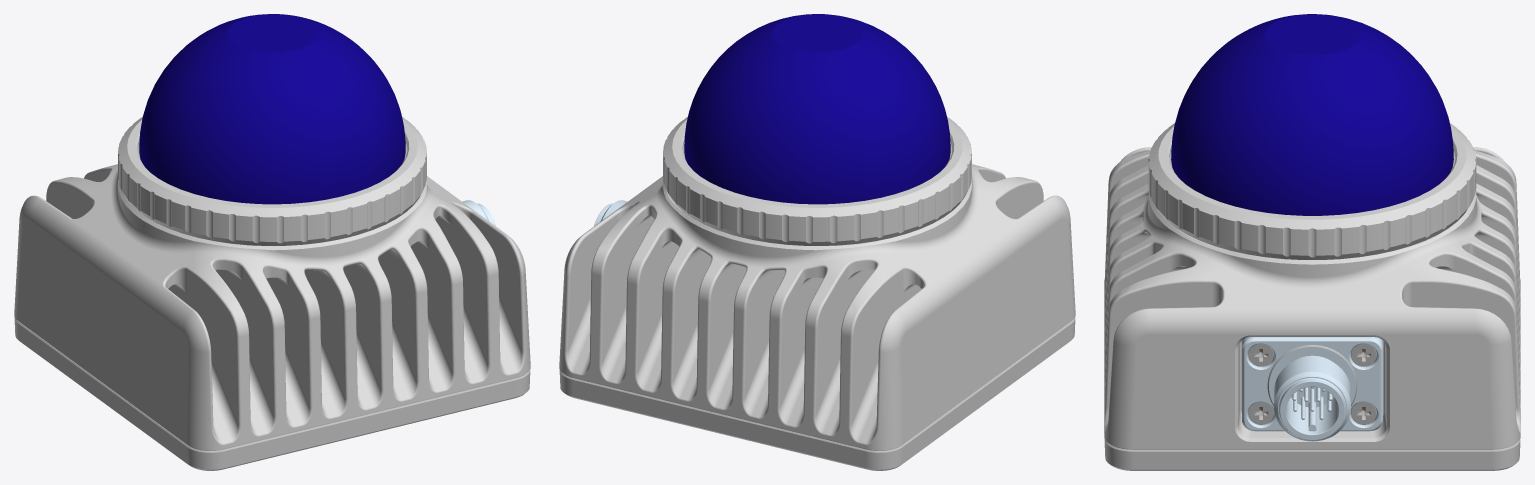
The model's file is livox_360.dae.
The picture shows the model from 3 angles, left to right: view 1: azimuth 30°, elevation 25°; view 2: azimuth 150°, elevation 25°; view 3: azimuth 270°, elevation 25°; orthographic projection. The views are drawn at different scales.
Visible parts, largest first — view 1: Body_9, _3DGeom-103, _3DGeom-105, _3DGeom-264, _3DGeom-263; view 2: Body_9, _3DGeom-103, _3DGeom-105, _3DGeom-264, _3DGeom-263; view 3: Body_9, _3DGeom-103, _3DGeom-105, _3DGeom-464, _3DGeom-264, _3DGeom-263, Body_7, Body_8, Body_5, Body_6.
Part boxes in pixels (x1,y1,x2,y2): Body_9: (14,164,530,450); _3DGeom-103: (139,14,405,204); _3DGeom-105: (118,117,426,245); _3DGeom-264: (14,319,530,470); _3DGeom-263: (14,317,530,452); Body_9: (559,164,1075,450); _3DGeom-103: (684,14,950,204); _3DGeom-105: (663,117,971,245); _3DGeom-264: (559,319,1075,470); _3DGeom-263: (559,317,1075,452); Body_9: (1104,147,1520,449); _3DGeom-103: (1171,14,1453,215); _3DGeom-105: (1148,123,1476,259); _3DGeom-464: (1242,337,1382,441); _3DGeom-264: (1104,441,1520,470); _3DGeom-263: (1104,439,1520,451); Body_7: (1248,402,1273,424); Body_8: (1351,402,1376,424); Body_5: (1248,344,1273,366); Body_6: (1351,344,1376,366).
Bounding box in the file's own units: 0.0727 × 0.0649 × 0.0601.
